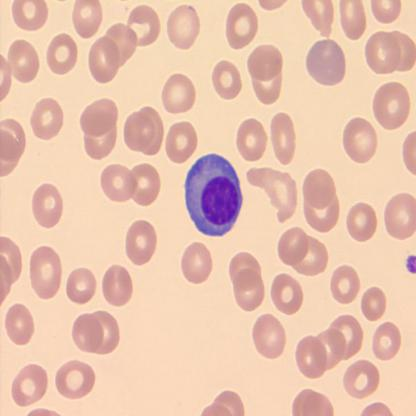Atypical lymphocyte: (185, 153, 243, 238)
